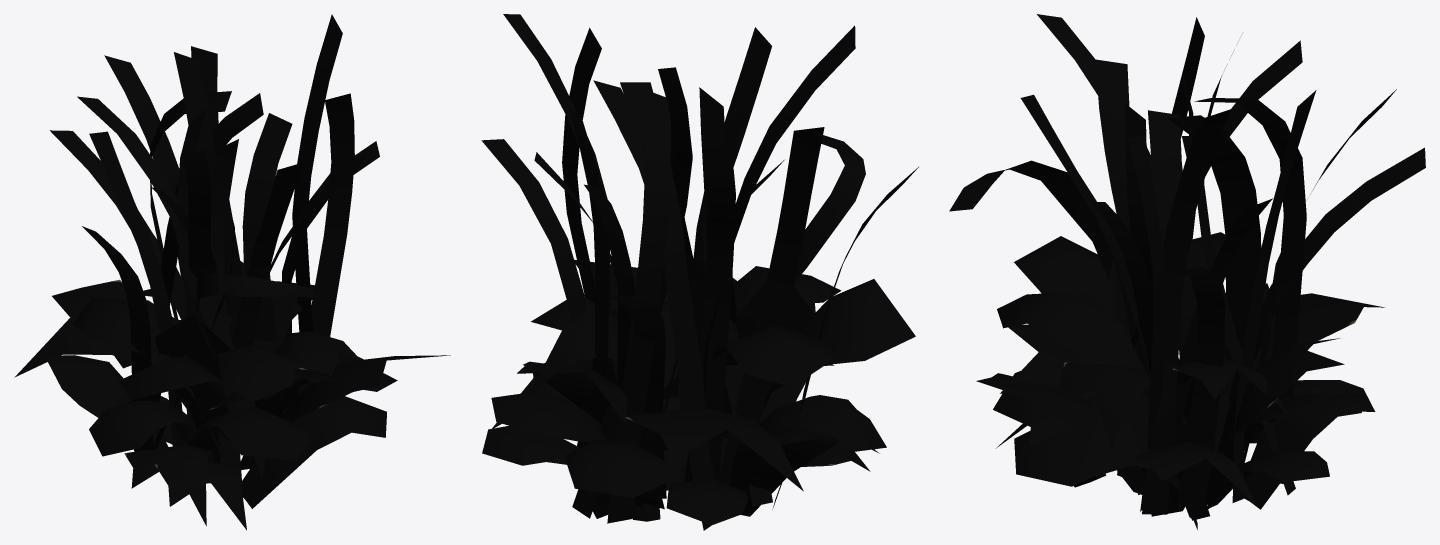
File: moba_grass_01.FBX
The picture shows the model from 3 angles, left to right: view 1: azimuth 30°, elevation 25°; view 2: azimuth 150°, elevation 25°; view 3: azimuth 270°, elevation 25°; orthographic projection. The views are drawn at different scales.
Visible parts, largest first — view 1: Object006; view 2: Object006; view 3: Object006.
Boxes of the visible parts, <box> form: Object006: <box>14,14,450,530</box>; Object006: <box>481,14,918,530</box>; Object006: <box>949,14,1425,529</box>.
Bounding box in the file's own units: 30.5 × 37.29 × 33.92.
